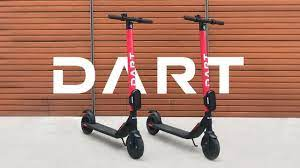kick_board: (146, 15, 225, 159), (80, 13, 153, 158)
kick_handler: (108, 14, 153, 29), (184, 15, 224, 30)
kick_neck: (199, 32, 216, 111), (126, 31, 139, 116)
kick_wheel: (125, 132, 143, 159), (200, 136, 220, 160), (146, 115, 159, 135), (80, 115, 93, 134)
